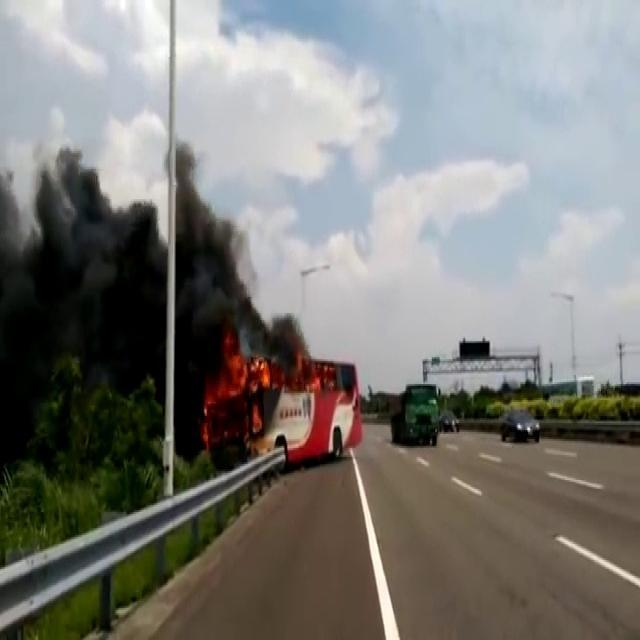Fire: (225, 338, 272, 429)
Smoke: (0, 112, 242, 466)
